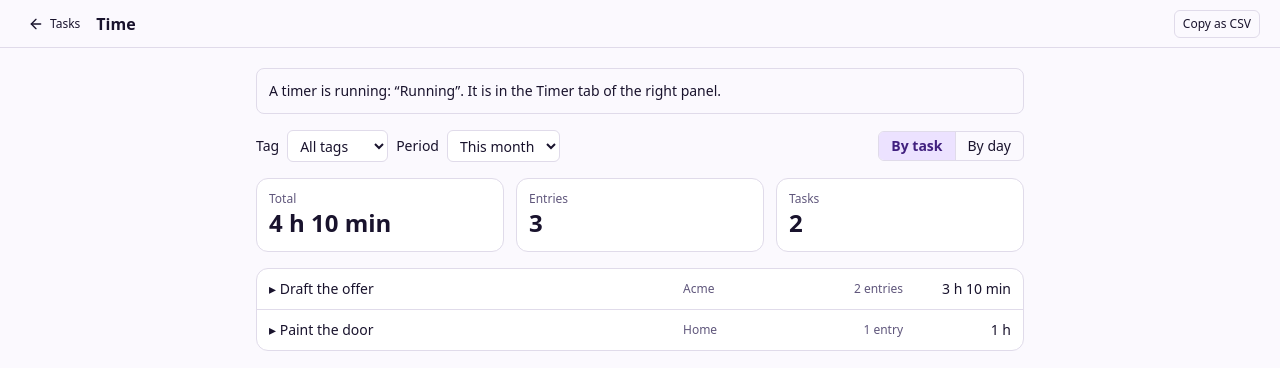
TimePage › a tag narrows it to what has the tag, also through the epic
Select "#kunde-x" in the dropdown labelled "Tag": (338, 146) [287,130,388,162]
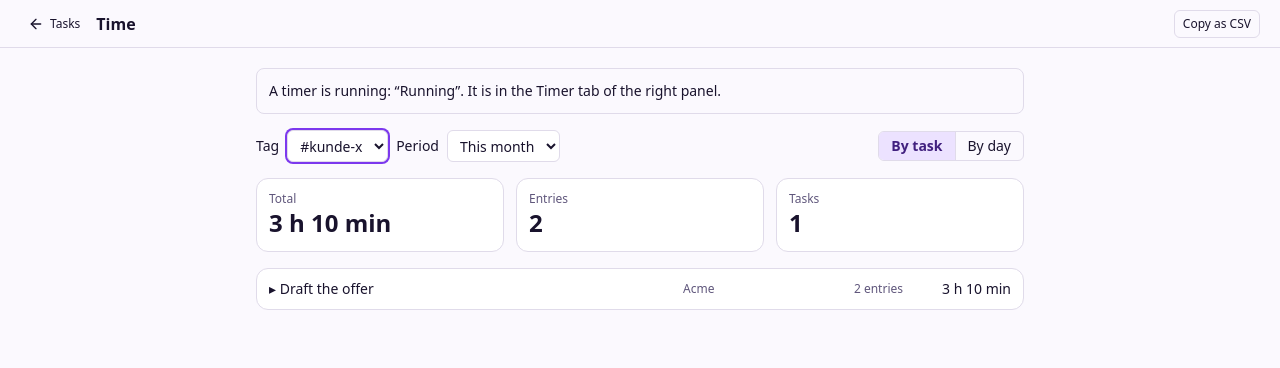
Expected: the text with test id "time-total" reads "3 h 10 min", [269,206,391,239]
Expected: the button "Paint the door" is gone
